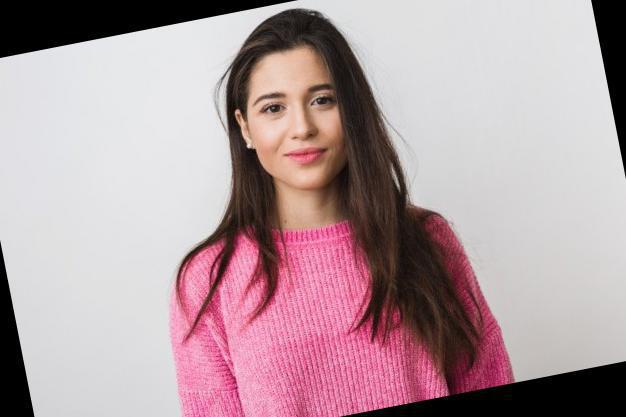Sober: (248, 62, 344, 183)
